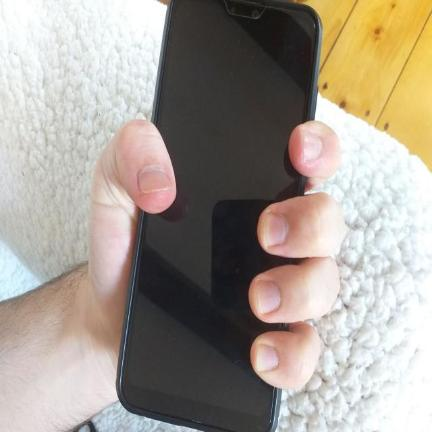Nail: (138, 169, 175, 190), (262, 216, 289, 243), (257, 284, 281, 313), (253, 344, 278, 371), (303, 135, 322, 161)
